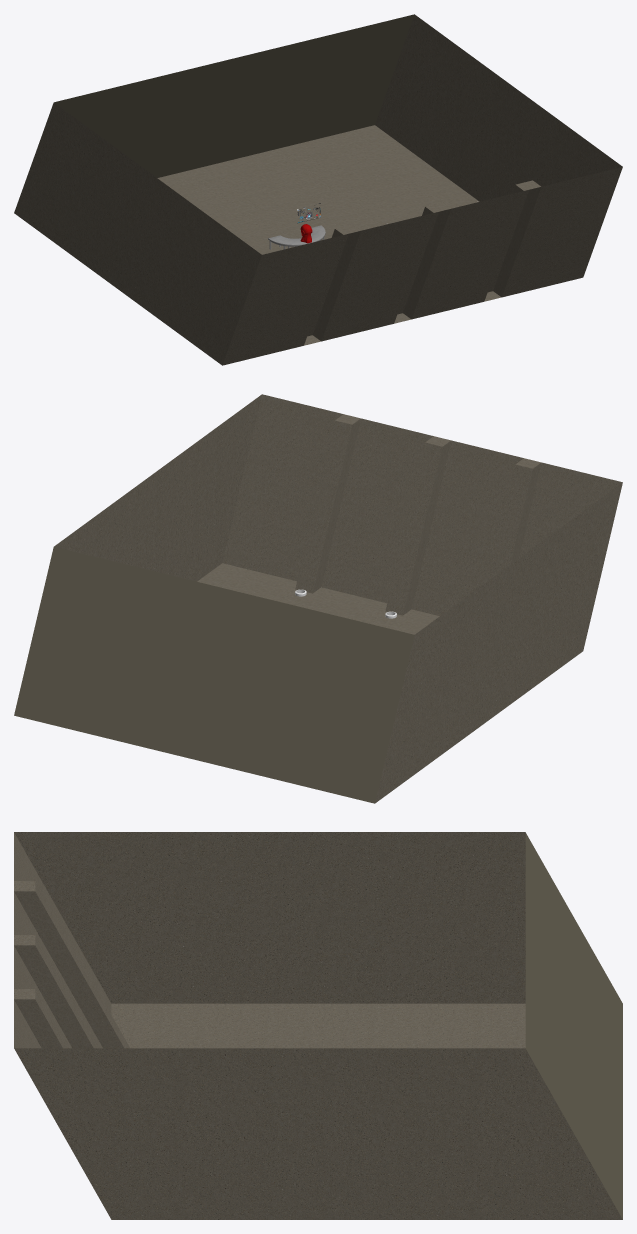
The model's file is iron_man_helmet.glb.
3 renders of one model, top to bottom at view 1: azimuth 30°, elevation 25°; view 2: azimuth 150°, elevation 25°; view 3: azimuth 270°, elevation 25°, orthographic. The views are drawn at different scales.
Parts seen in each view (by area): view 1: Plane, Circle; view 2: Plane; view 3: Plane.
Part boxes in pixels (bbox=[...]): Plane: bbox=[14, 14, 622, 365]; Circle: bbox=[268, 225, 325, 246]; Plane: bbox=[14, 394, 622, 803]; Plane: bbox=[14, 832, 622, 1219].
Size of the model in its own units: 30 by 11.14 by 35.72.
Materials: 10 (6 with a texture image).
